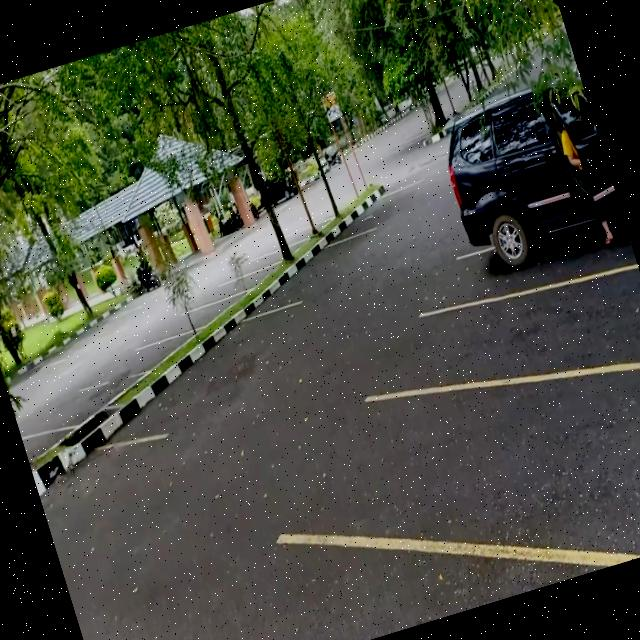empty: (394, 315, 640, 611), (438, 249, 640, 404), (278, 228, 386, 306), (47, 377, 130, 432), (110, 336, 180, 384), (156, 298, 231, 342), (215, 268, 271, 301)
occupied: (436, 132, 636, 311)
